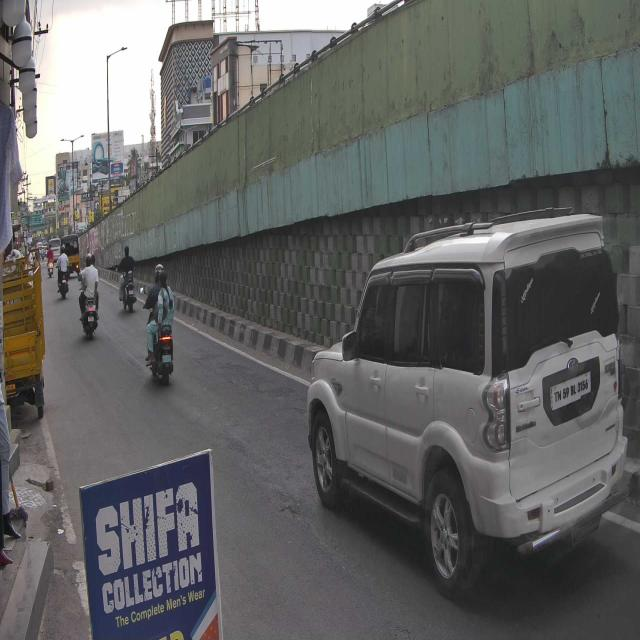double_rider: (141, 263, 176, 386)
